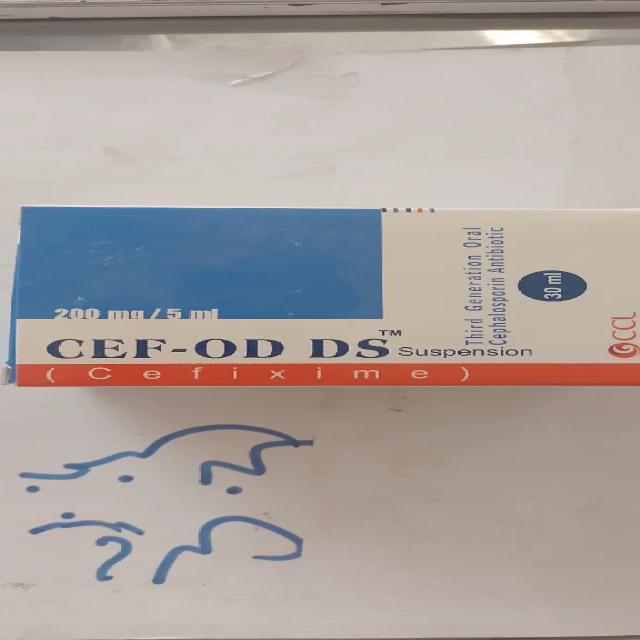drug-name: (44, 336, 392, 361)
